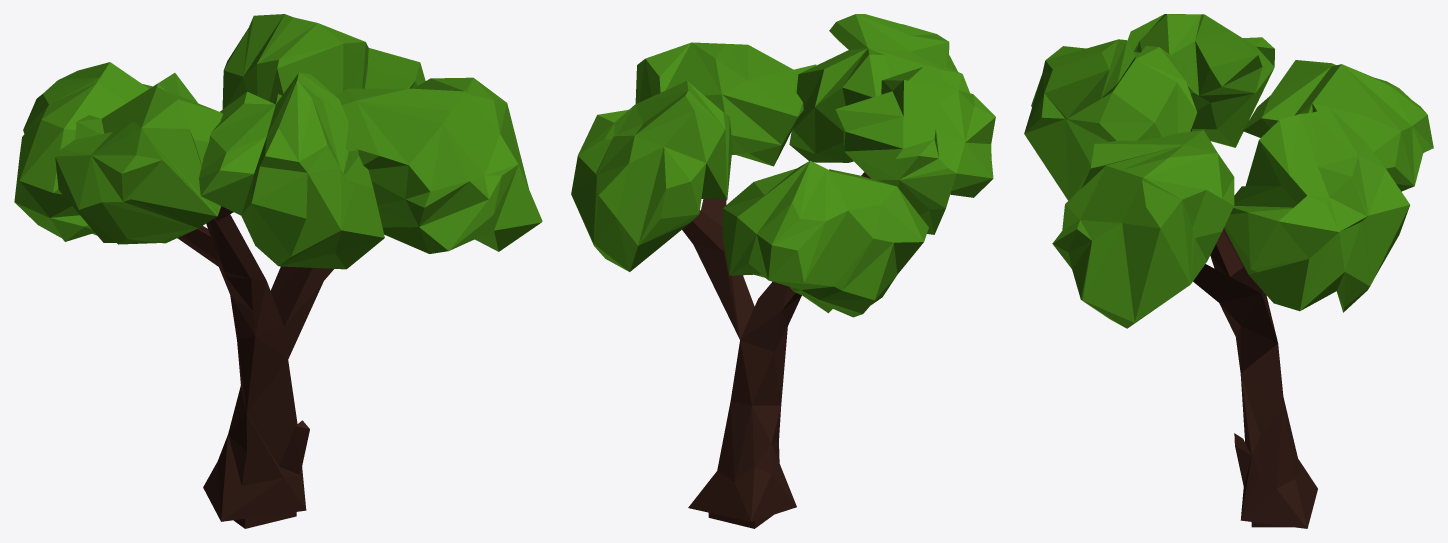
3 views of the same model, side by side, from view 1: azimuth 30°, elevation 25°; view 2: azimuth 150°, elevation 25°; view 3: azimuth 270°, elevation 25° (orthographic). The views are drawn at different scales.
Visible parts, largest first — view 1: tree; view 2: tree; view 3: tree.
Boxes of the visible parts, <box> form: tree: <box>14,14,542,521</box>; tree: <box>571,14,995,521</box>; tree: <box>1024,14,1433,528</box>.
Size of the model in its own units: 2.19 by 2.5 by 2.03.
